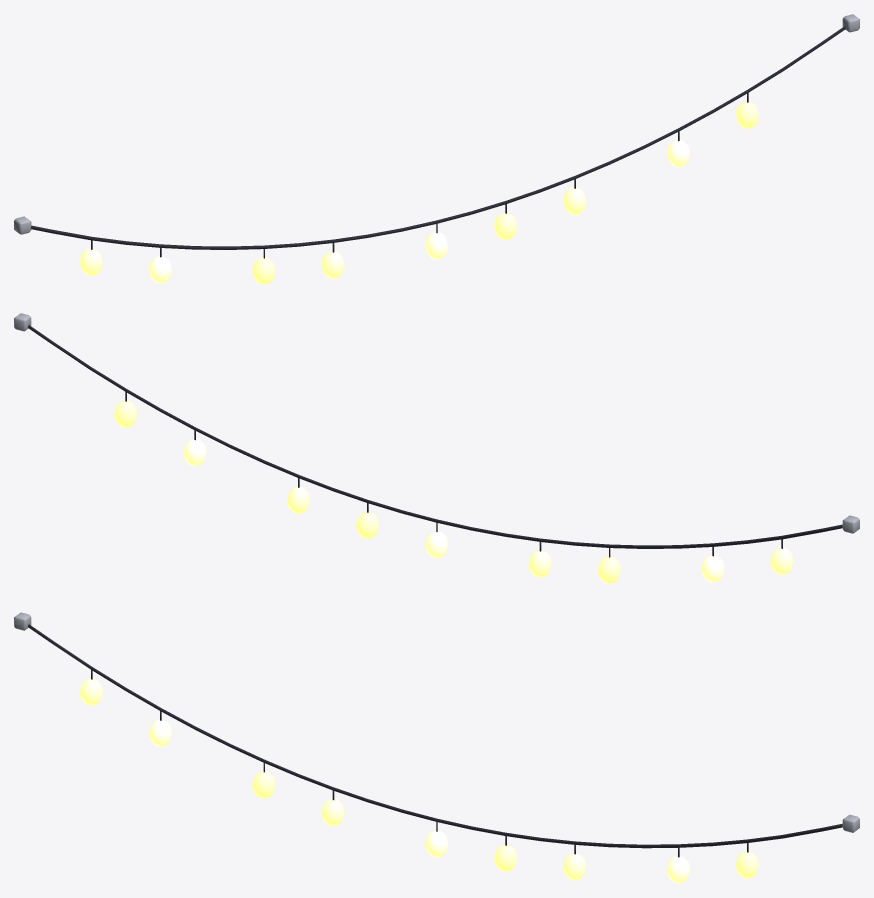
The model's file is alley_lights.glb.
3 views of the same model, one above another, from view 1: azimuth 30°, elevation 25°; view 2: azimuth 150°, elevation 25°; view 3: azimuth 330°, elevation 25° (orthographic).
Parts seen in each view (by area): view 1: bulbs, alley_lights; view 2: bulbs, alley_lights; view 3: bulbs, alley_lights.
Part boxes in pixels (box(x1,y1,x2,y2)): bulbs: box(80, 93, 759, 284); alley_lights: box(14, 14, 859, 249); bulbs: box(114, 392, 793, 583); alley_lights: box(14, 313, 859, 548); bulbs: box(80, 670, 759, 883); alley_lights: box(14, 612, 859, 848).
Size of the model in its own units: 4.06 by 0.65 by 0.1.
